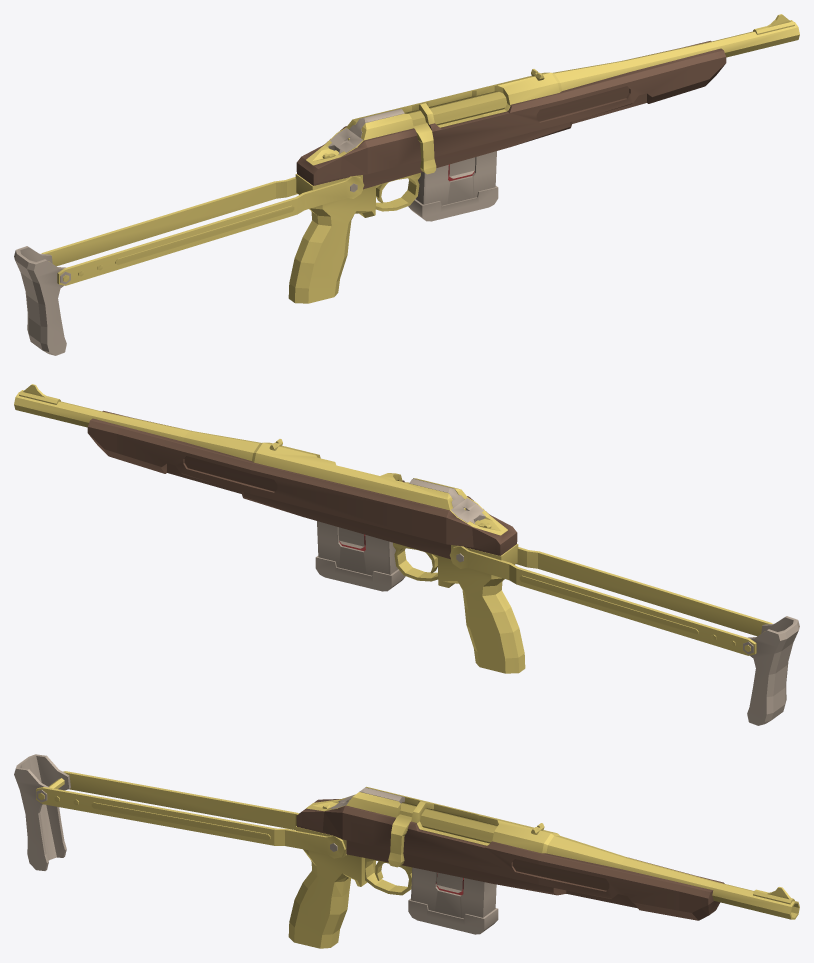
File: Mid_Twins.glb
The picture shows the model from 3 angles, top to bottom: view 1: azimuth 30°, elevation 25°; view 2: azimuth 150°, elevation 25°; view 3: azimuth 330°, elevation 25°; orthographic projection.
Parts seen in each view (by area): view 1: Cube.001_2, Cube.001_9, Cube.001_5, Cube.001_0, Cube.001_3, Cube.001_4; view 2: Cube.001_2, Cube.001_9, Cube.001_5, Cube.001_0, Cube.001_4; view 3: Cube.001_2, Cube.001_9, Cube.001_5, Cube.001_0, Cube.001_3, Cube.001_4.
Boxes of the visible parts, x1,y1,x2,y2 form: Cube.001_2: (41,14,799,285); Cube.001_9: (296,40,726,189); Cube.001_5: (14,151,496,355); Cube.001_0: (288,185,375,303); Cube.001_3: (407,91,507,174); Cube.001_4: (328,109,498,221); Cube.001_2: (14,384,772,655); Cube.001_9: (87,410,517,559); Cube.001_5: (317,521,799,725); Cube.001_0: (438,555,525,673); Cube.001_4: (315,479,485,591); Cube.001_2: (36,771,799,919); Cube.001_9: (296,799,724,920); Cube.001_5: (14,754,496,918); Cube.001_0: (288,849,375,948); Cube.001_3: (388,803,497,867); Cube.001_4: (328,787,498,934).
Size of the model in its own units: 10.83 by 2.26 by 0.7468.
